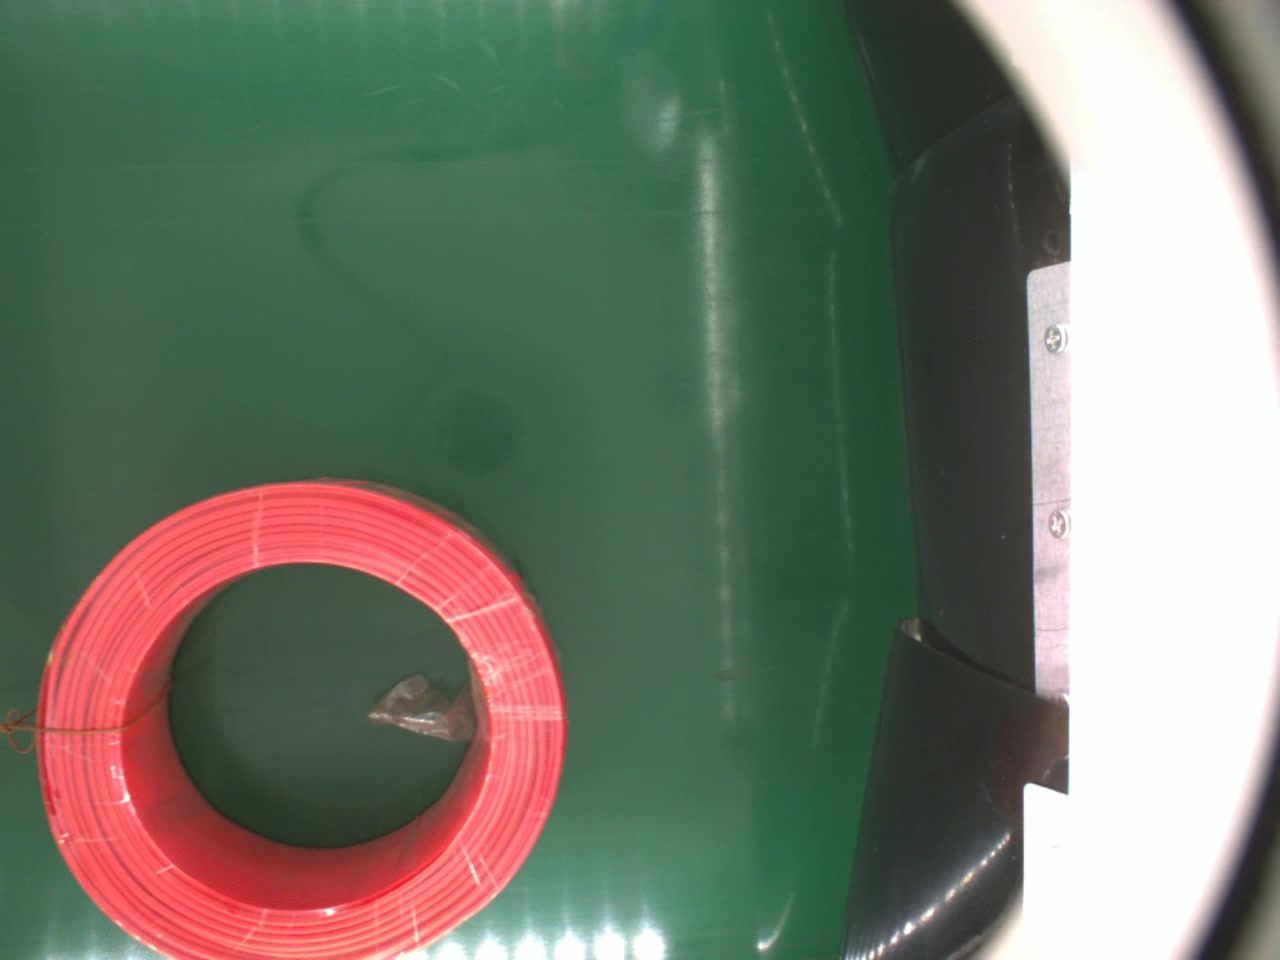red: (31, 471, 562, 960)
